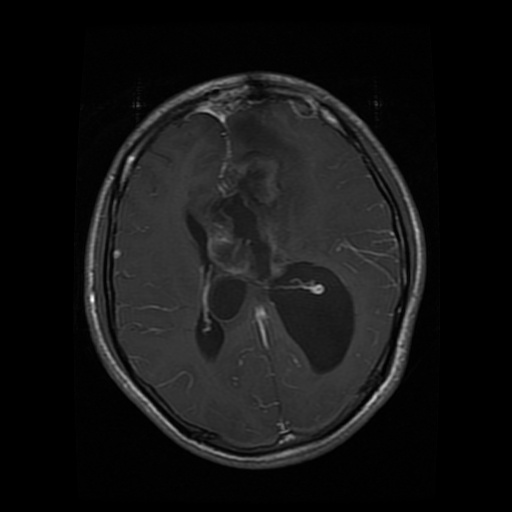glioma: (185, 105, 318, 282)
